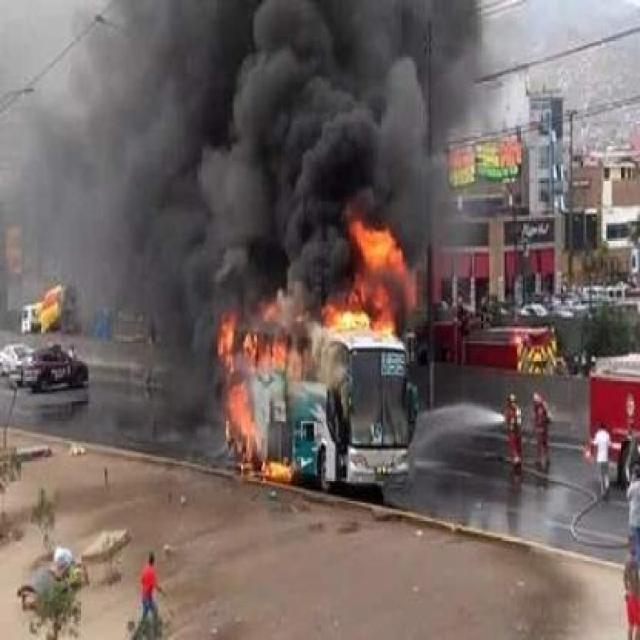Fire: (197, 195, 405, 483), (166, 4, 478, 194)
